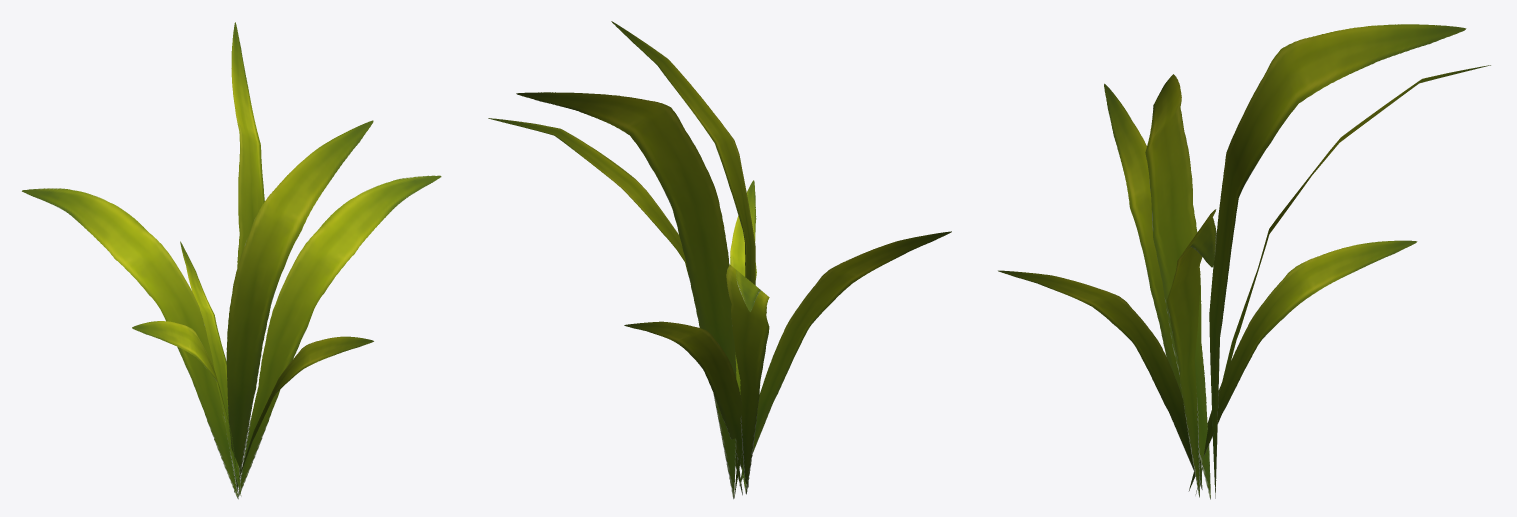
File: outdoorM_grass_a.FBX
3 views of the same model, side by side, from view 1: azimuth 30°, elevation 25°; view 2: azimuth 150°, elevation 25°; view 3: azimuth 270°, elevation 25° (orthographic). The views are drawn at different scales.
Parts seen in each view (by area): view 1: outdoorM_grass_a; view 2: outdoorM_grass_a; view 3: outdoorM_grass_a.
Part boxes in pixels (<box>): outdoorM_grass_a: <box>22,22,441,499</box>; outdoorM_grass_a: <box>488,21,951,499</box>; outdoorM_grass_a: <box>998,24,1490,499</box>.
Size of the model in its own units: 5.34 by 5.49 by 4.72.
